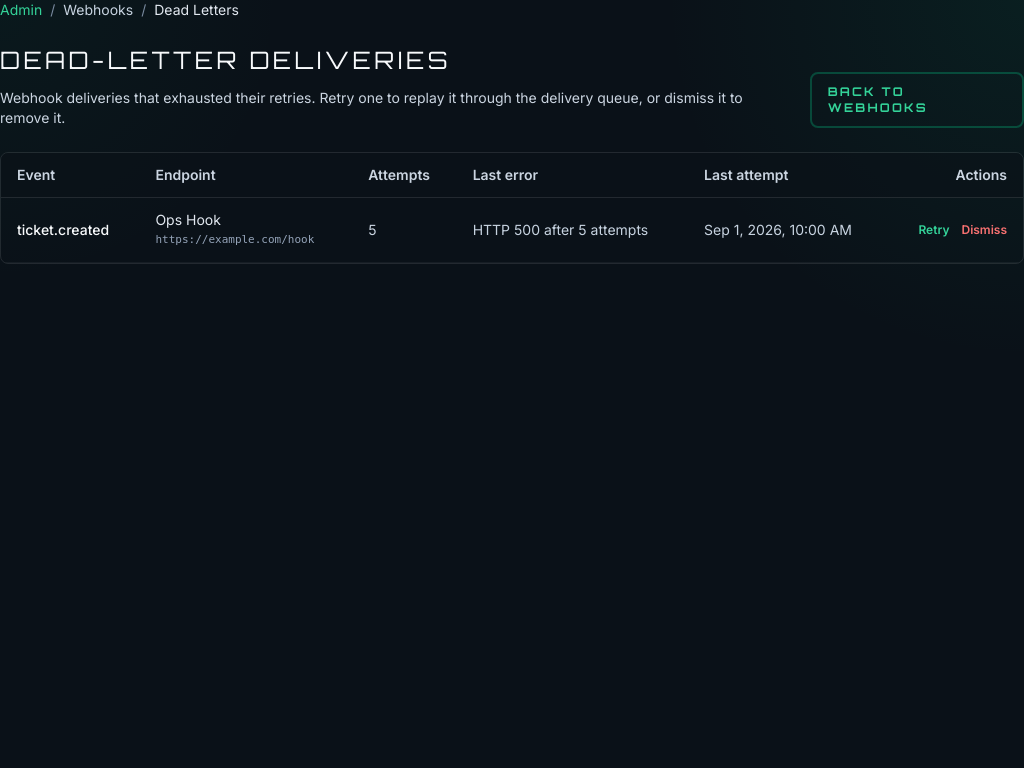
AdminWebhookDeadLettersPage › names the event in the dismiss confirmation
This screenshot has width=1024, height=768.
Click the button with aria-label "Dismiss ticket.created": {"x": 984, "y": 230} [962,222,1007,238]
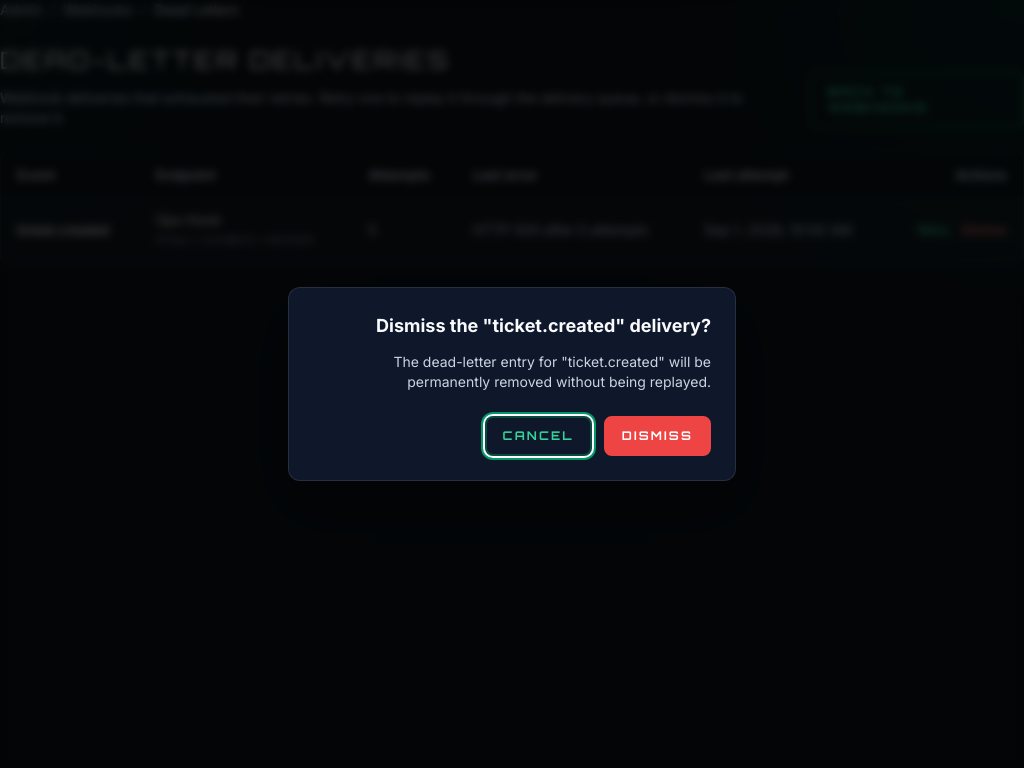
Now the dialog is shown, box [288,287,736,481]
Now the heading "Dismiss the \"ticket.created\" delivery?" is shown, box [376,315,711,336]
Now the text "dead-letter entry for \"ticket.created\" will be permanently removed" is shown, box [393,353,711,390]
